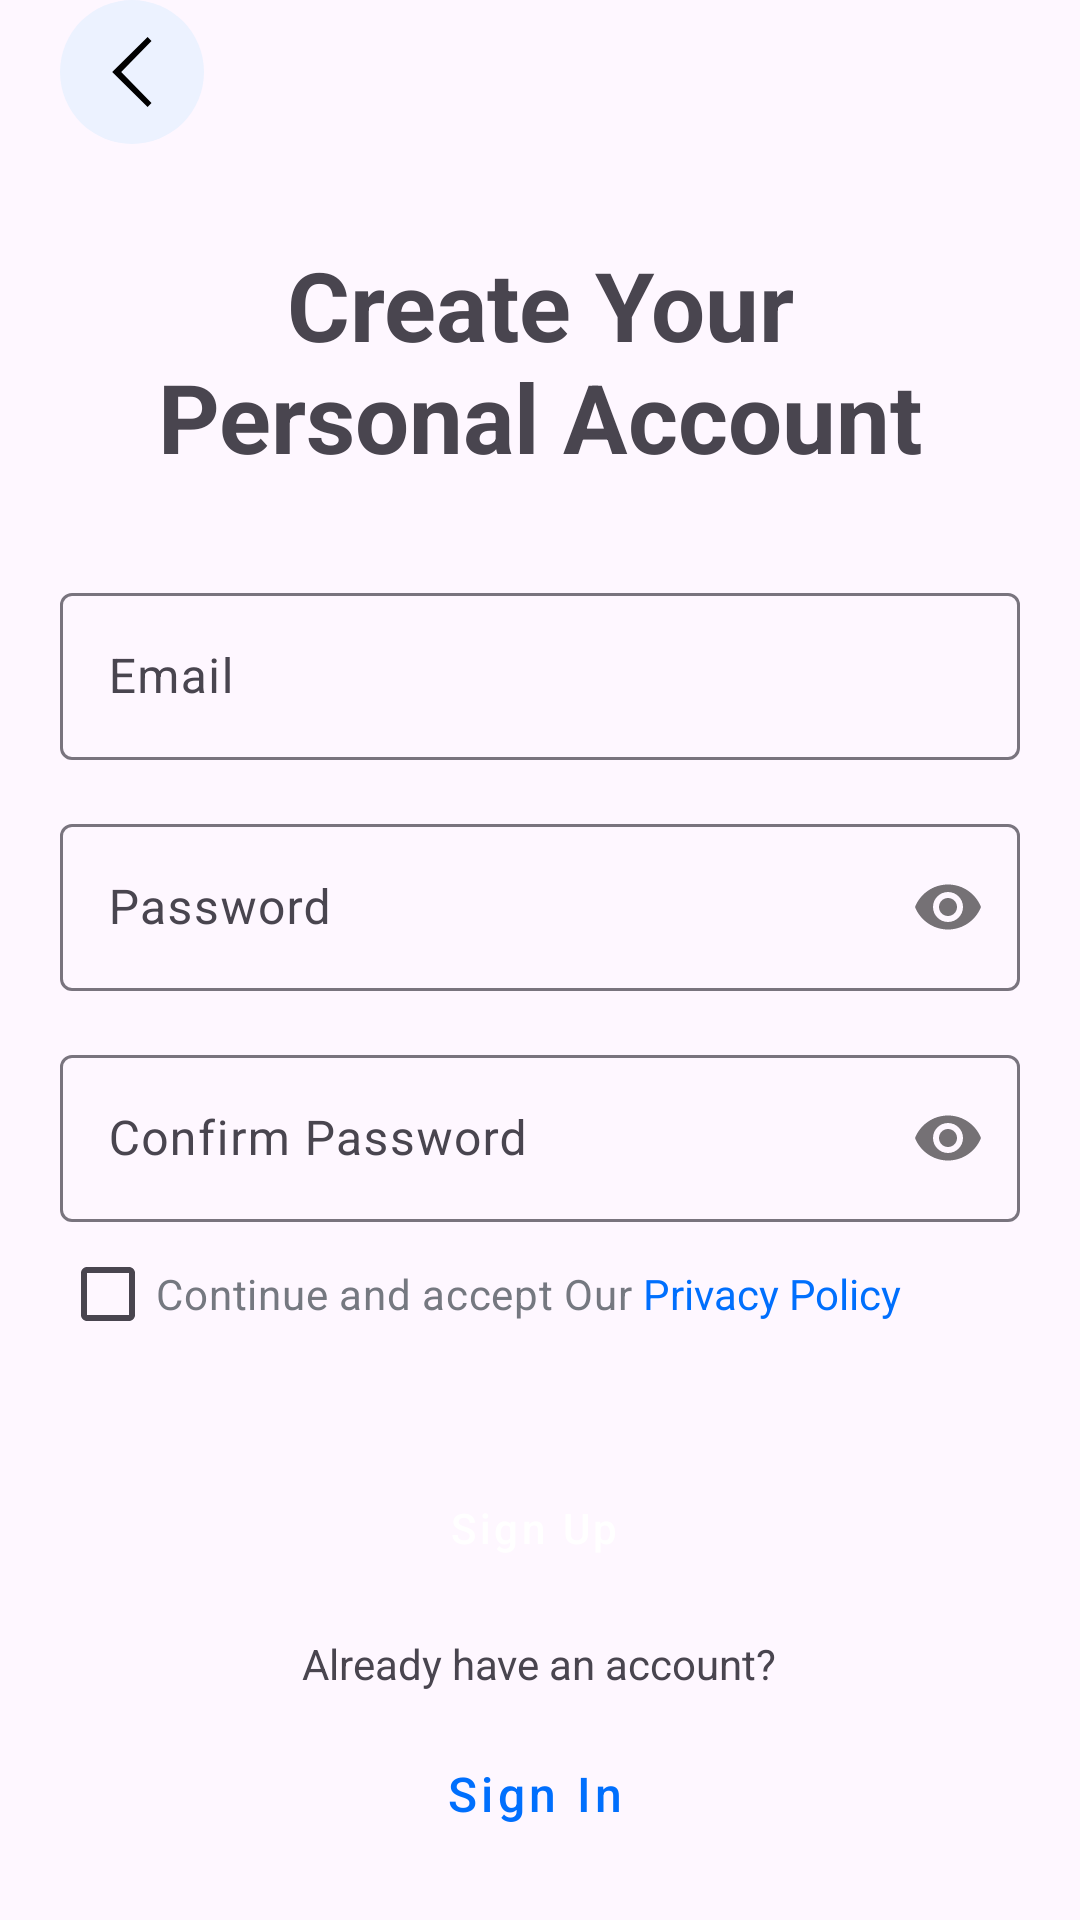

Icons on this 1080px x 1920px Android screen, each with its box as {"x1": x1, "y1": y1, "x2": x2, "y2": y2}:
back: {"x1": 60, "y1": 0, "x2": 204, "y2": 144}
